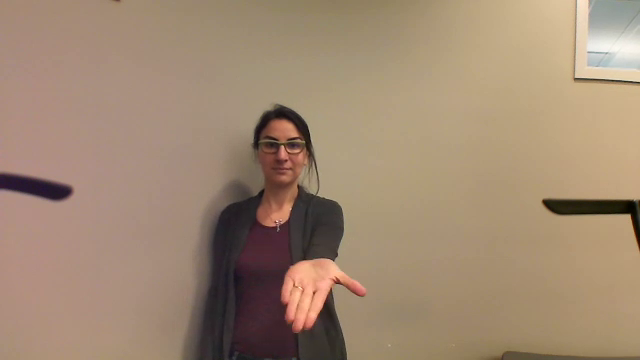land: (268, 249, 372, 338)
